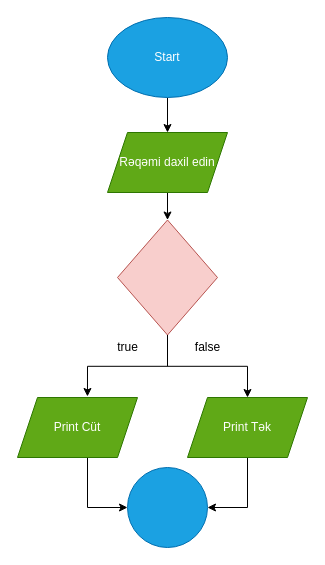
Some shapes in this 325 by 565 pixel diagram are drawn without their labels. Here are the shapes that lost their labels. From the top down, the centre of each, then its label:
At pixel 167 277: "If Rəqəm%2==0".
At pixel 167 507: "END".
